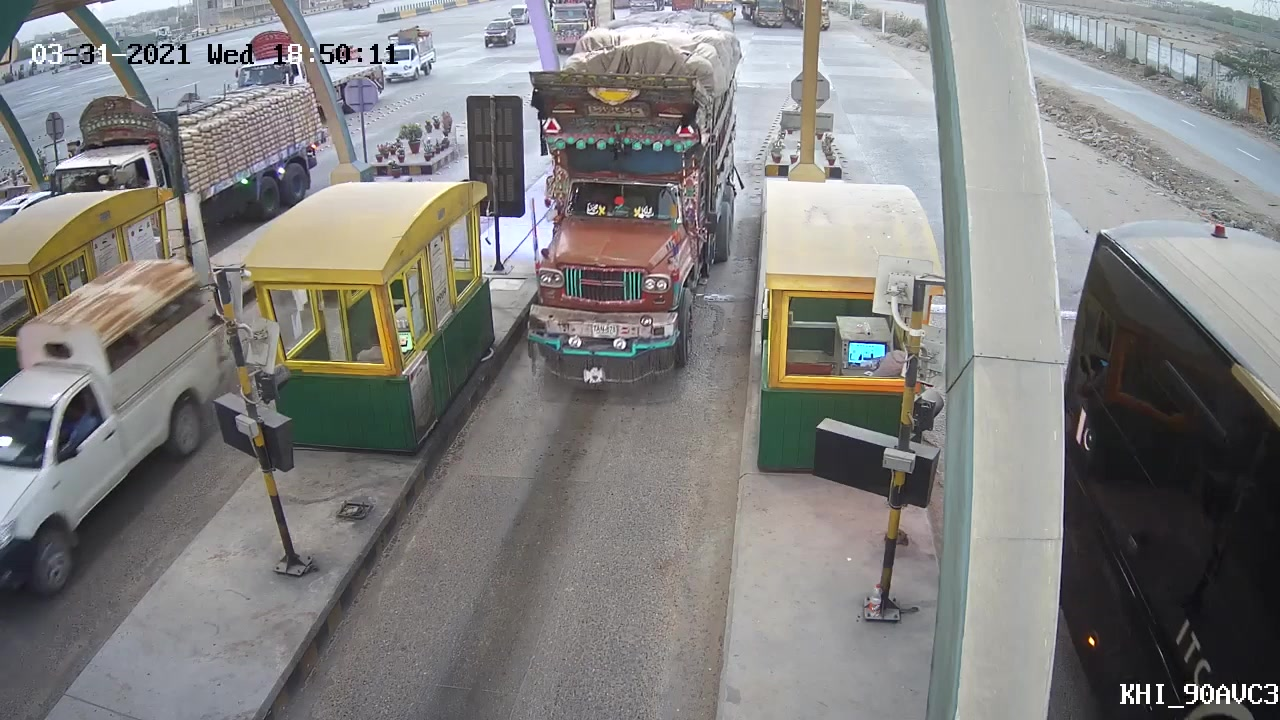F5: (507, 4, 750, 392)
